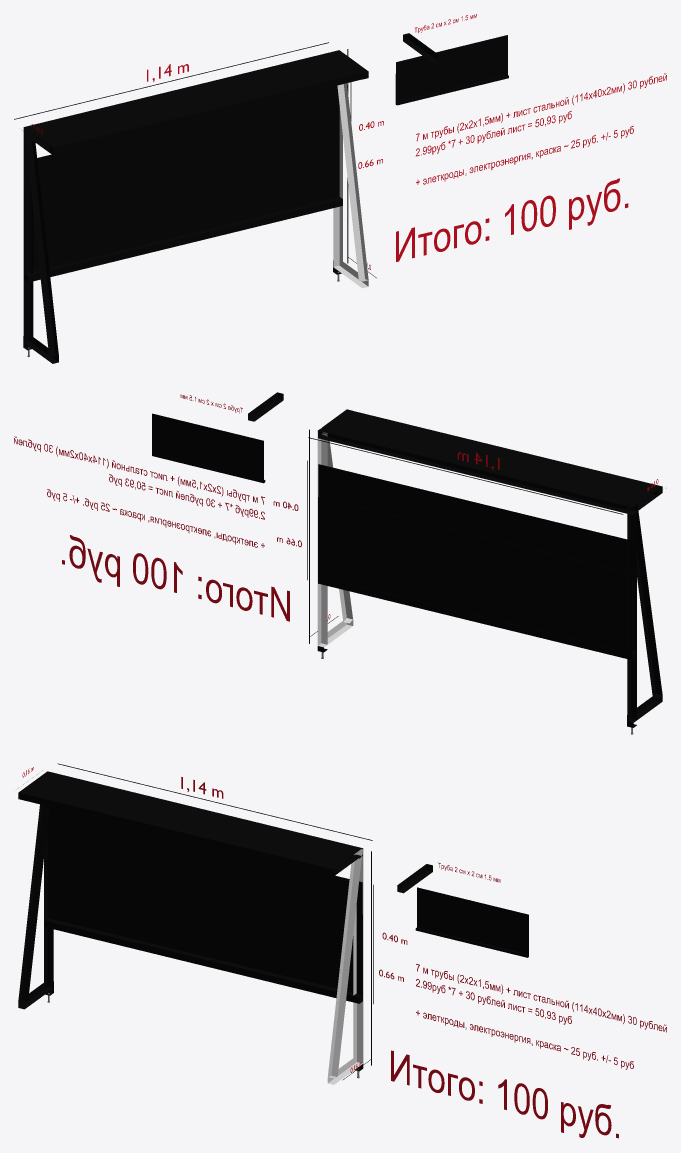
Rendered from superstructure01.glb.
3 views of the same model, one above another, from view 1: azimuth 30°, elevation 25°; view 2: azimuth 150°, elevation 25°; view 3: azimuth 330°, elevation 25° (orthographic).
Parts seen in each view (by area): view 1: Cube.004, Cube.006, Cube.015, Text.006, Cube.013, Text.007, Cube.003, Cube.012, Cube.002; view 2: Cube.004, Cube.006, Cube.015, Cube.005, Text.006, Text.007, Cube.013, Cube.012, Cube.002; view 3: Cube.004, Cube.006, Cube.015, Cube.003, Text.006, Text.007, Cube.013, Cube.002, Cube.012.
Boxes of the visible parts, x1,y1,x2,y2 form: Cube.004: [24, 82, 351, 282]; Cube.006: [14, 42, 368, 154]; Cube.015: [395, 35, 508, 105]; Text.006: [415, 73, 666, 184]; Cube.013: [24, 128, 58, 357]; Text.007: [396, 178, 628, 261]; Cube.003: [337, 52, 368, 281]; Cube.012: [23, 128, 33, 345]; Cube.002: [333, 108, 342, 269]; Cube.004: [307, 460, 636, 660]; Cube.006: [308, 409, 661, 514]; Cube.015: [152, 413, 265, 483]; Cube.005: [318, 431, 636, 514]; Text.006: [14, 436, 264, 547]; Text.007: [62, 535, 289, 621]; Cube.013: [629, 504, 662, 698]; Cube.012: [627, 506, 636, 722]; Cube.002: [317, 432, 327, 647]; Cube.004: [44, 807, 373, 1004]; Cube.006: [19, 763, 372, 875]; Cube.015: [415, 887, 528, 957]; Cube.003: [328, 849, 362, 1078]; Text.006: [416, 964, 666, 1069]; Text.007: [391, 1050, 618, 1138]; Cube.013: [18, 804, 49, 1002]; Cube.002: [353, 849, 363, 1066]; Cube.012: [44, 823, 53, 990].
Size of the model in its own units: 5.87 by 2.22 by 0.625.
